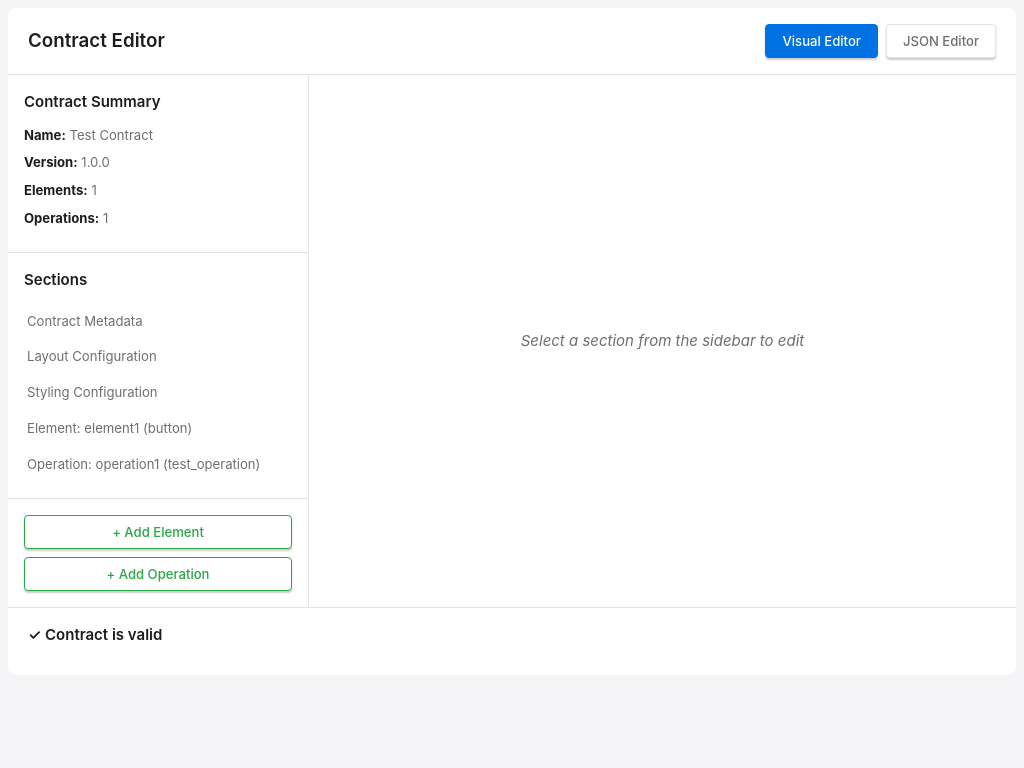
Test case: ContractEditor › allows selecting and editing sections
The image size is (1024, 768).
Click the text "Element: element1 (button)": (110, 428) [27, 420, 192, 436]
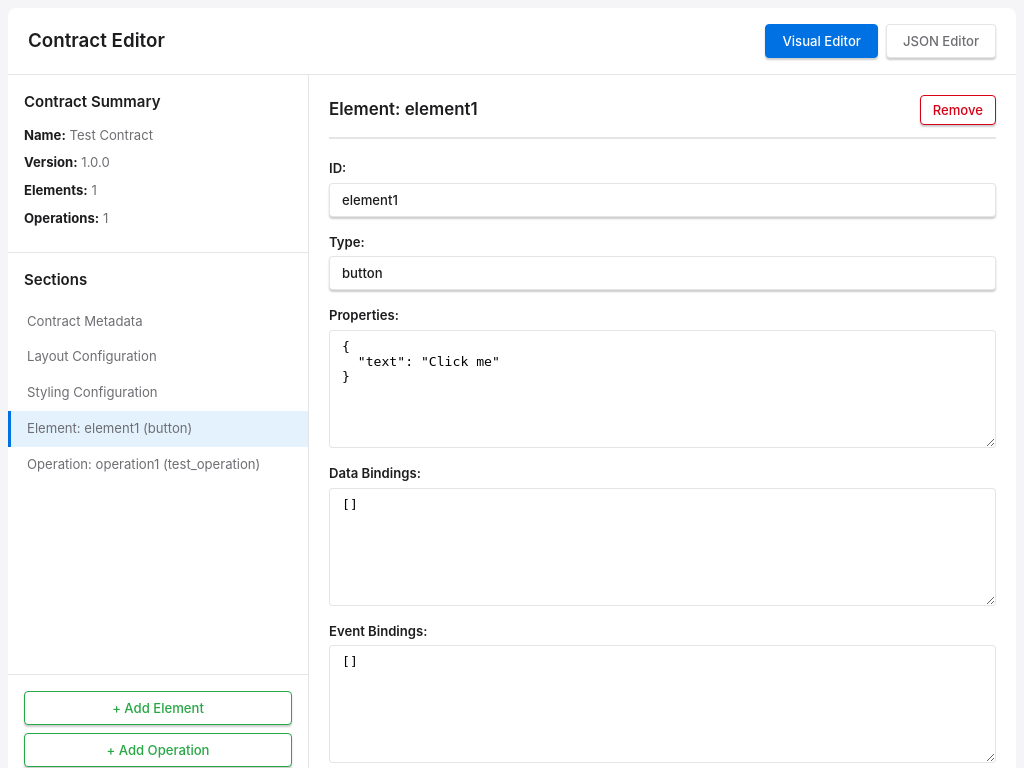
Expected: the heading "Element: element1" is shown, [329, 97, 478, 123]
Expected: the field showing "element1" below "ID:" is shown, [329, 183, 996, 217]
Expected: the field showing "button" below "Type:" is shown, [329, 256, 996, 290]
